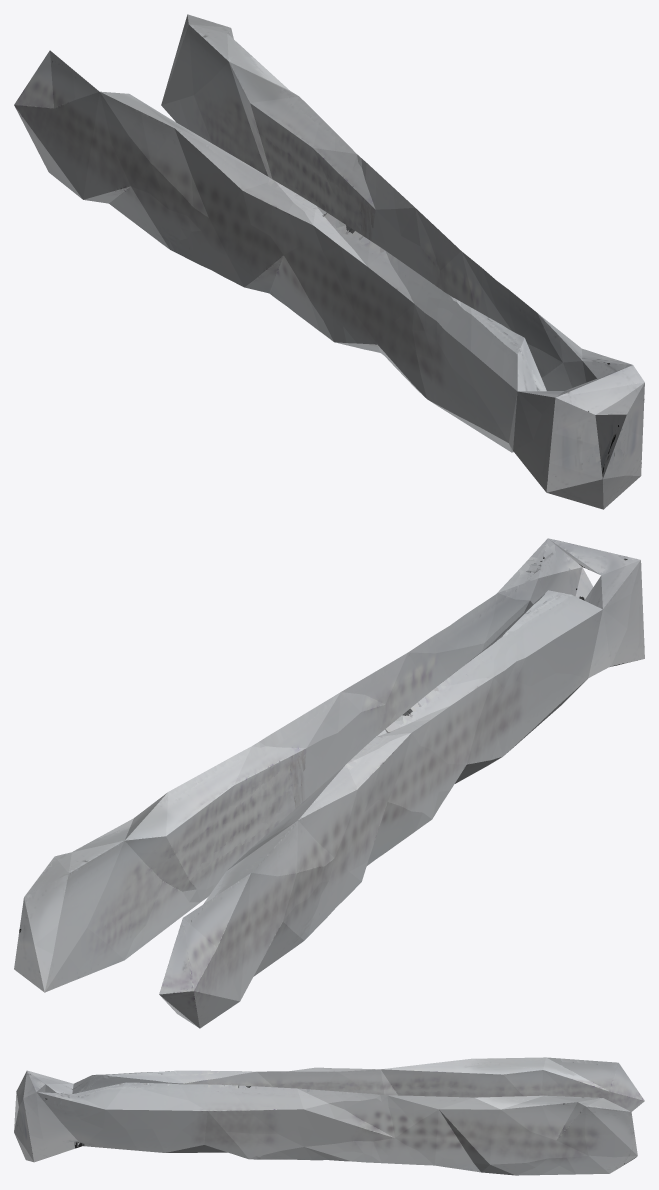
The picture shows the model from 3 angles, top to bottom: view 1: azimuth 30°, elevation 25°; view 2: azimuth 150°, elevation 25°; view 3: azimuth 270°, elevation 25°; orthographic projection. The views are drawn at different scales.
Visible parts, largest first — view 1: visual_mesh; view 2: visual_mesh; view 3: visual_mesh.
Boxes of the visible parts, bbox=[...] form: visual_mesh: bbox=[14, 14, 644, 509]; visual_mesh: bbox=[14, 538, 644, 1028]; visual_mesh: bbox=[14, 1057, 644, 1175].
Size of the model in its own units: 0.0577 by 0.0414 by 0.2883.
Materials: 1 (1 with a texture image).
